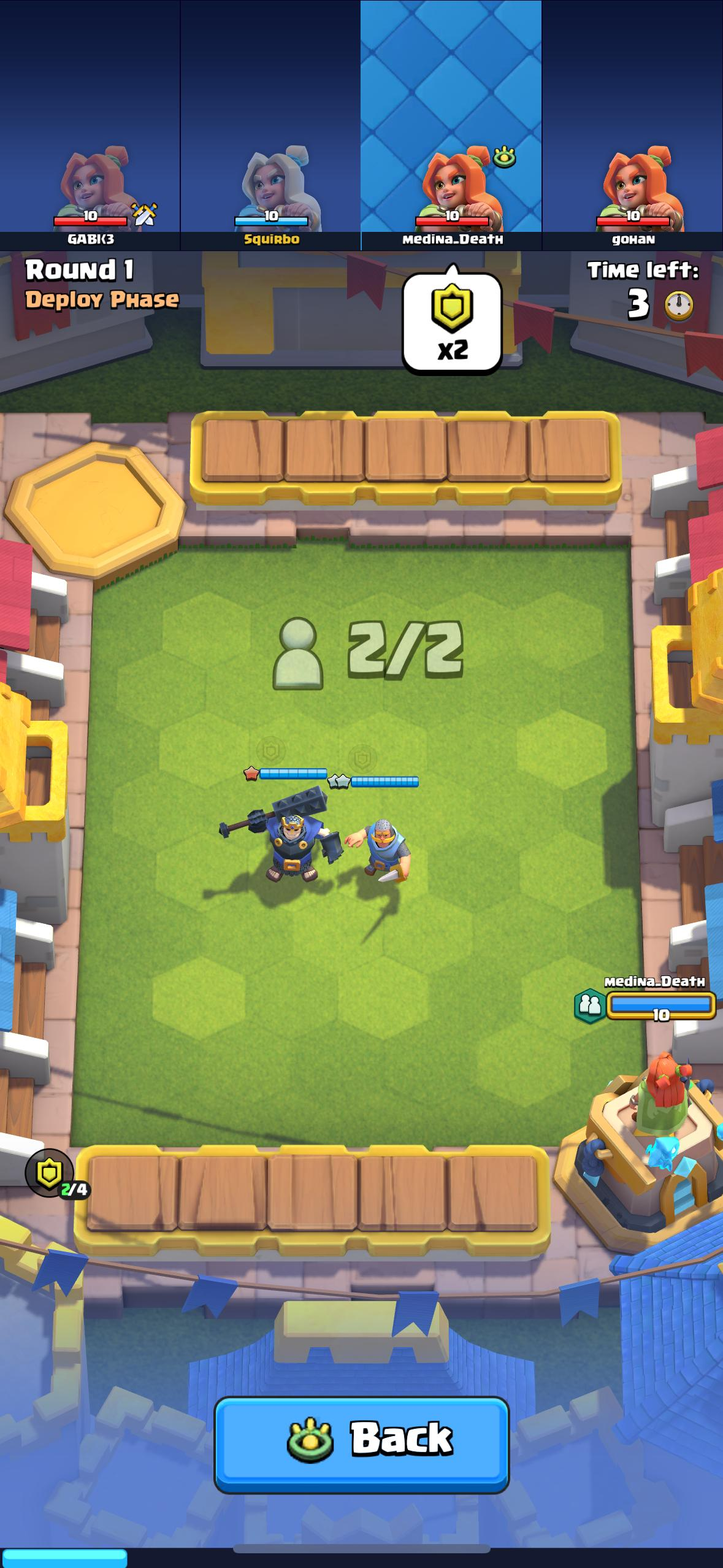king: (251, 786, 340, 886)
knight: (347, 806, 411, 890)
